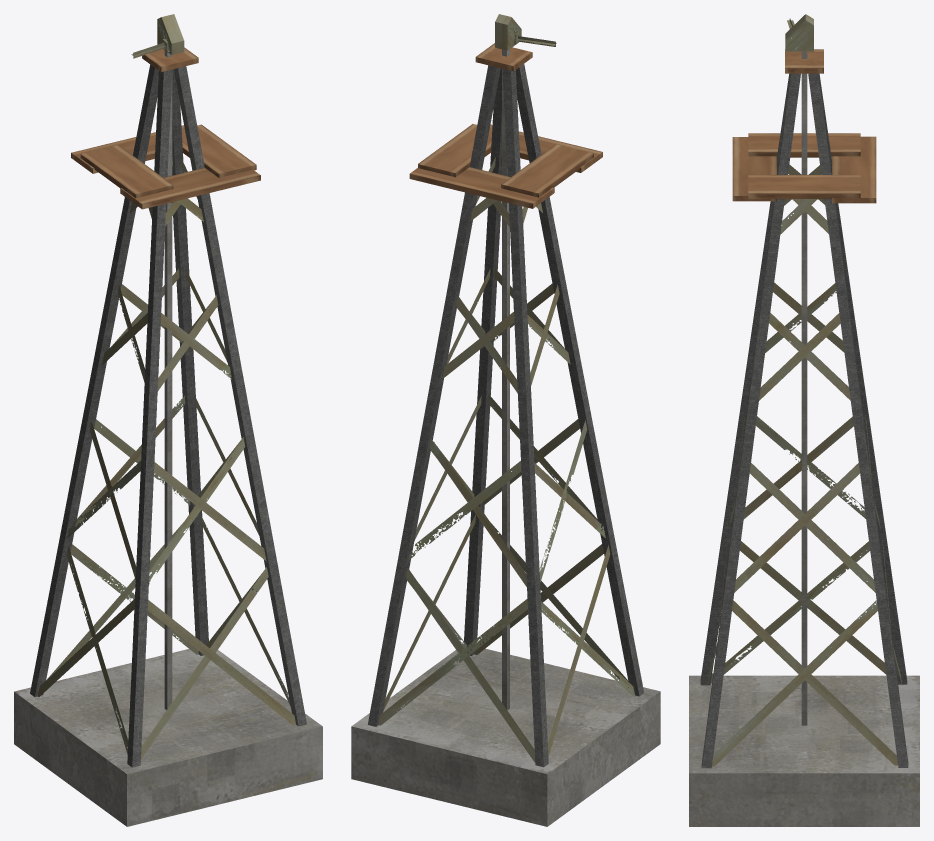
File: windpump.glb
3 renders of one model, left to right at view 1: azimuth 30°, elevation 25°; view 2: azimuth 150°, elevation 25°; view 3: azimuth 270°, elevation 25°, orthographic. The views are drawn at different scales.
Visible parts, largest first — view 1: stktex_generic_concreteA.png__, stk_greyMetal_a.png__, stk_generic_ironA.png__, stktex_generic_WoodA.png__; view 2: stktex_generic_concreteA.png__, stk_greyMetal_a.png__, stk_generic_ironA.png__, stktex_generic_WoodA.png__; view 3: stktex_generic_concreteA.png__, stk_greyMetal_a.png__, stk_generic_ironA.png__, stktex_generic_WoodA.png__.
Part boxes in pixels (x1,y1,x2,y2): stktex_generic_concreteA.png__: [14, 50, 322, 826]; stk_greyMetal_a.png__: [30, 64, 306, 767]; stk_generic_ironA.png__: [38, 14, 295, 759]; stktex_generic_WoodA.png__: [71, 47, 260, 209]; stktex_generic_concreteA.png__: [351, 49, 660, 826]; stk_greyMetal_a.png__: [367, 64, 644, 767]; stk_generic_ironA.png__: [378, 14, 634, 762]; stktex_generic_WoodA.png__: [409, 43, 602, 208]; stktex_generic_concreteA.png__: [689, 51, 919, 826]; stk_greyMetal_a.png__: [700, 73, 908, 768]; stk_generic_ironA.png__: [707, 14, 902, 766]; stktex_generic_WoodA.png__: [732, 49, 876, 203].
Bounding box in the file's own units: 6 × 21.84 × 6.
Materials: 4 (4 with a texture image).
